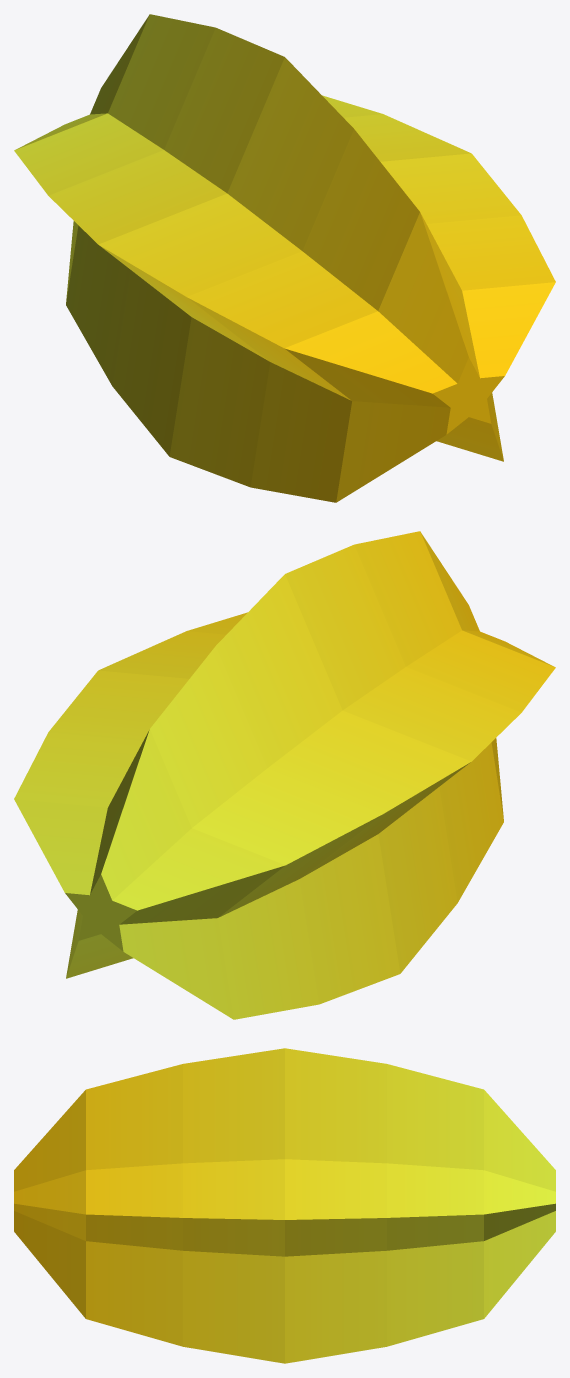
Rendered from Starfruit.fbx.
3 renders of one model, top to bottom at view 1: azimuth 30°, elevation 25°; view 2: azimuth 150°, elevation 25°; view 3: azimuth 270°, elevation 25°, orthographic. The views are drawn at different scales.
Visible parts, largest first — view 1: Starfruit; view 2: Starfruit; view 3: Starfruit.
Part boxes in pixels (x1,y1,x2,y2): Starfruit: (14, 14, 555, 502); Starfruit: (14, 531, 555, 1019); Starfruit: (14, 1048, 555, 1363).
Bounding box in the file's own units: 16.4 × 15.6 × 27.97.
